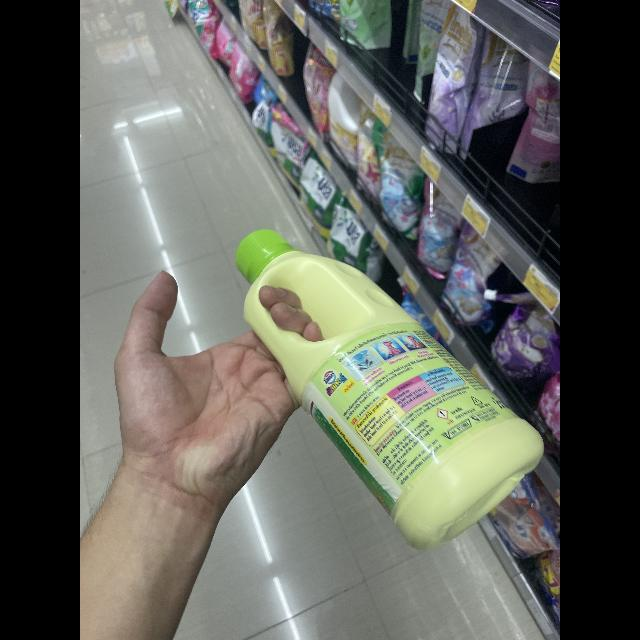chemical_plastic_bottle: (223, 220, 549, 562)
